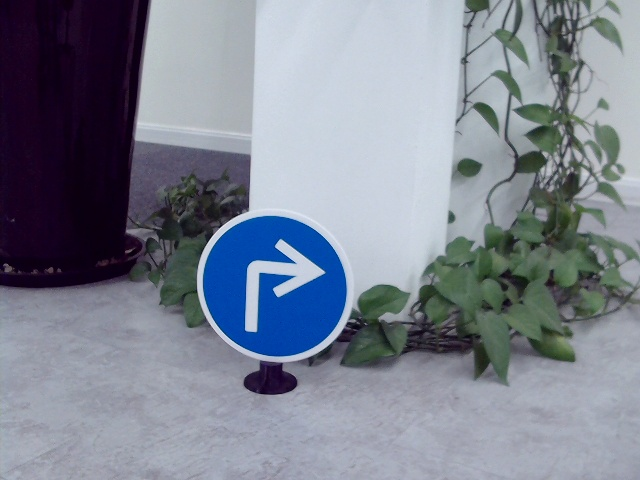turn_right: (237, 237, 325, 339)
